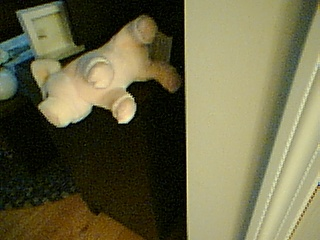piggy: (29, 13, 182, 129)
